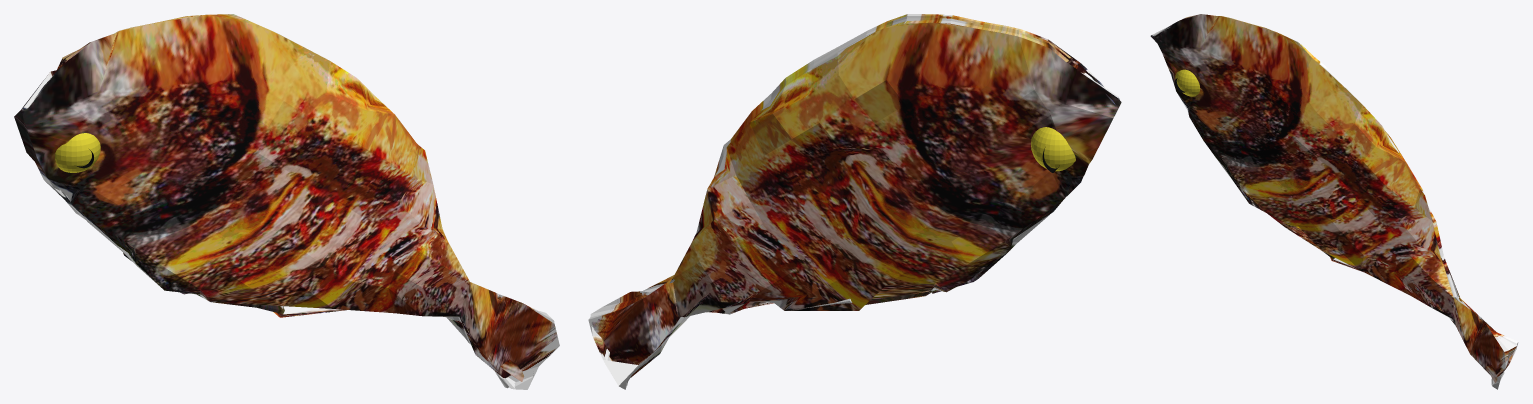
File: cookedfish.fbx
3 renders of one model, left to right at view 1: azimuth 30°, elevation 25°; view 2: azimuth 150°, elevation 25°; view 3: azimuth 330°, elevation 25°, orthographic. The views are drawn at different scales.
Parts seen in each view (by area): view 1: Cylinder.003; view 2: Cylinder.003; view 3: Cylinder.003.
Part boxes in pixels (bbox=[...]): Cylinder.003: bbox=[14, 14, 559, 389]; Cylinder.003: bbox=[588, 14, 1121, 389]; Cylinder.003: bbox=[1150, 14, 1518, 389].
Bounding box in the file's own units: 2182 × 1794 × 249.
3 materials, 1 textured.
